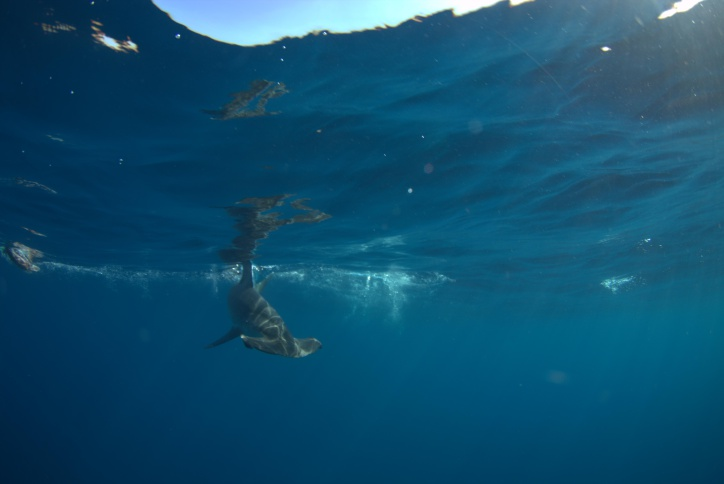Hammer: (183, 234, 368, 379)
